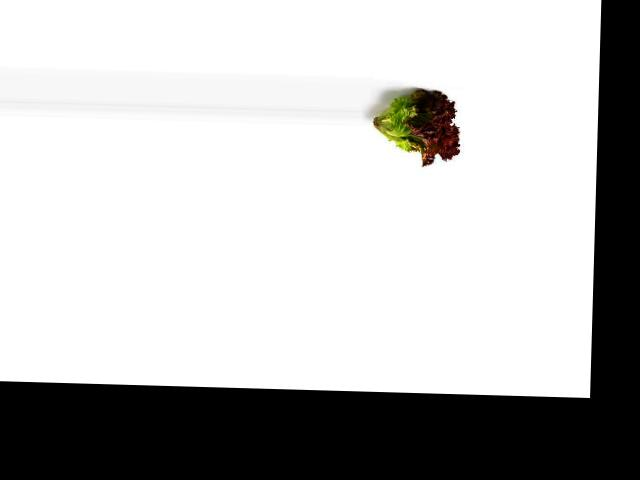lettuce: (360, 85, 466, 164)
